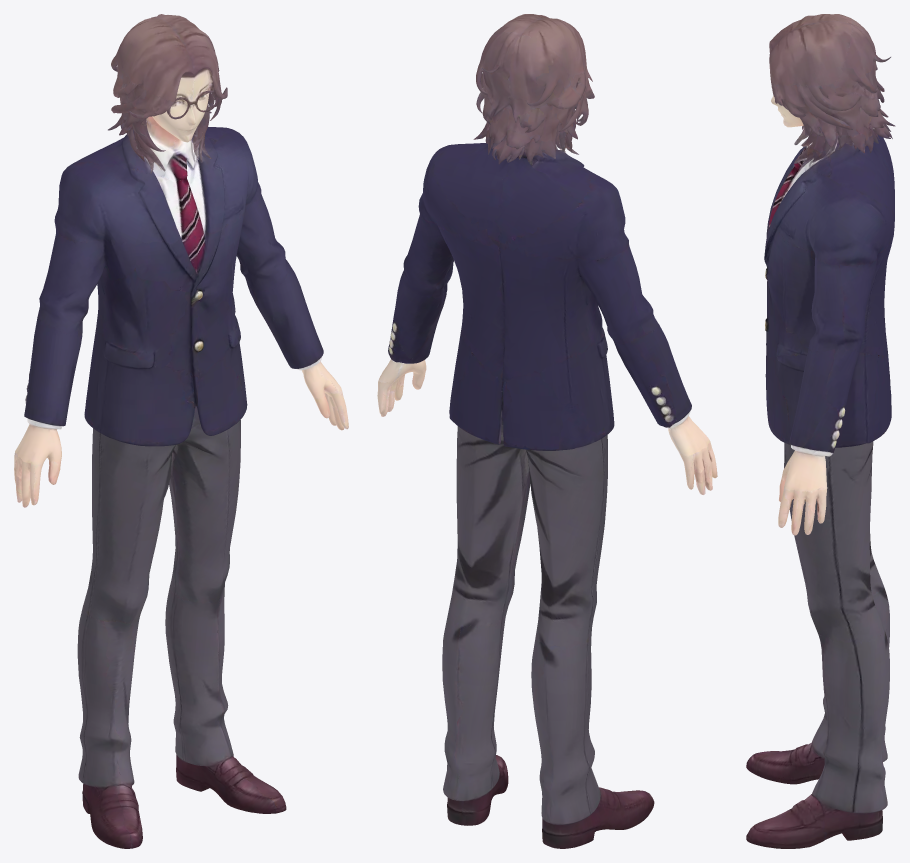
Rendered from boy_stylized6.glb.
The picture shows the model from 3 angles, left to right: view 1: azimuth 30°, elevation 25°; view 2: azimuth 150°, elevation 25°; view 3: azimuth 270°, elevation 25°; orthographic projection.
Parts seen in each view (by area): view 1: Object_4; view 2: Object_4; view 3: Object_4.
Part boxes in pixels (x1=…): Object_4: x1=14, y1=14, x2=348, y2=848; Object_4: x1=377, y1=14, x2=717, y2=848; Object_4: x1=746, y1=14, x2=895, y2=848.
Size of the model in its own units: 0.7723 by 1.8 by 0.3096.
1 material, 1 textured.
